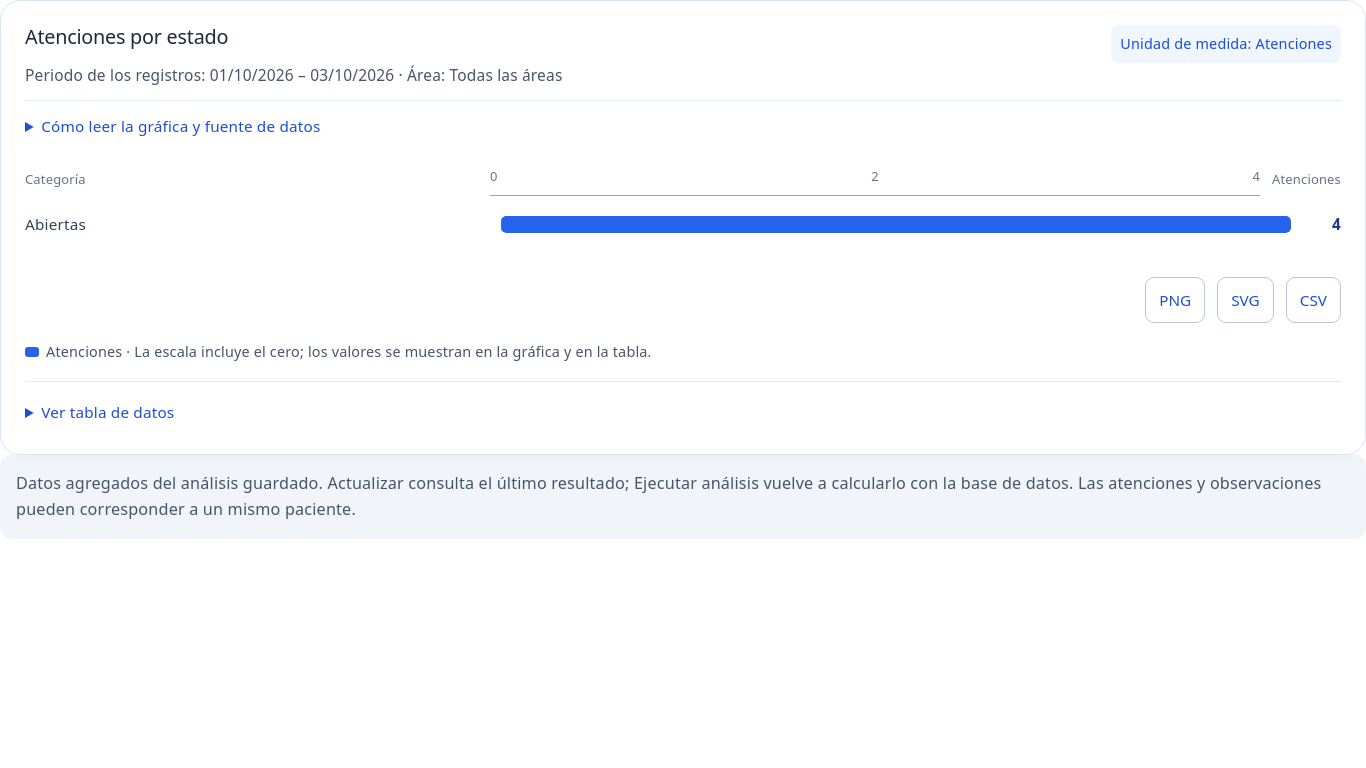
Test case: keeps units explicit and makes supporting text optional in es
Check: the text "Unidad de medida: Atenciones" is shown, box [1111,25,1341,63]
Click the heading "Cómo leer la gráfica y fuente de datos".
click(181, 126)  # box [41,116,320,136]
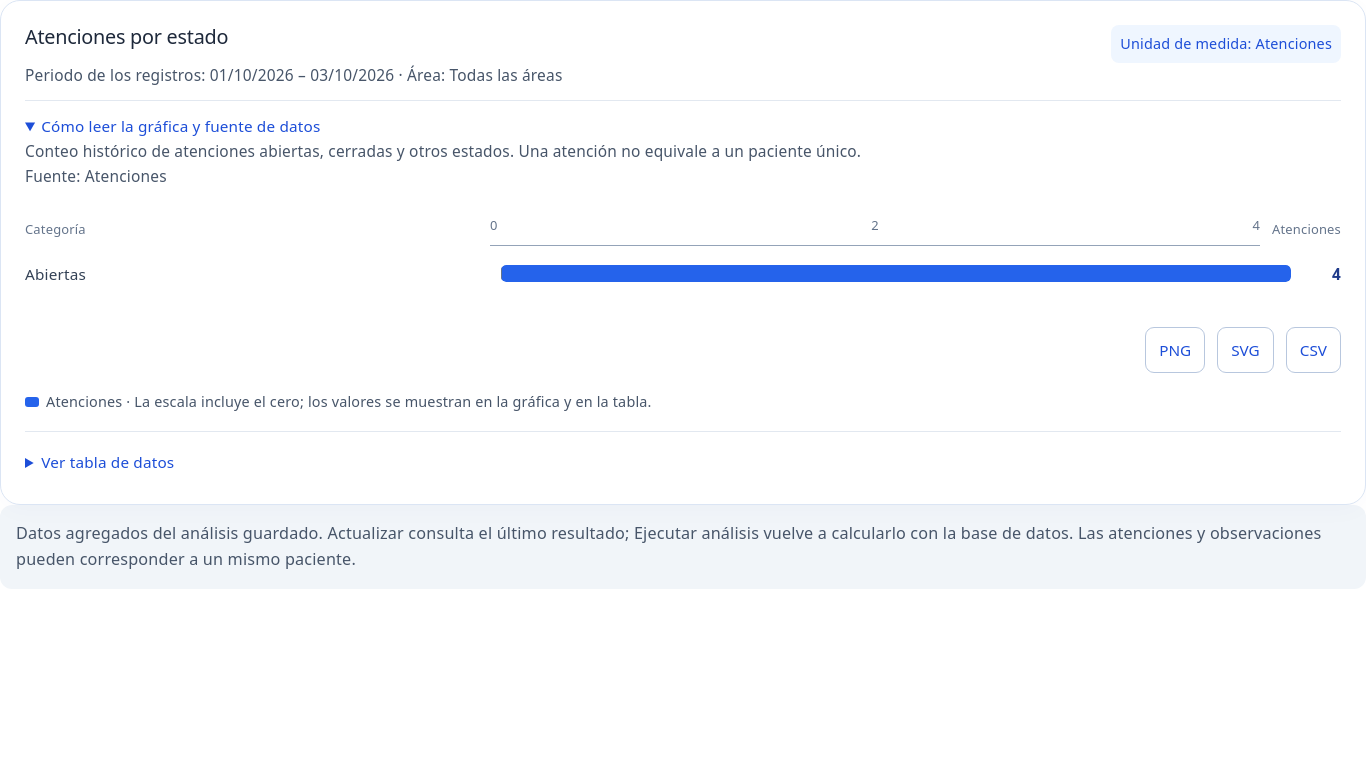
Check: the text "Fuente: Atenciones" is shown, box [25,165,167,187]
